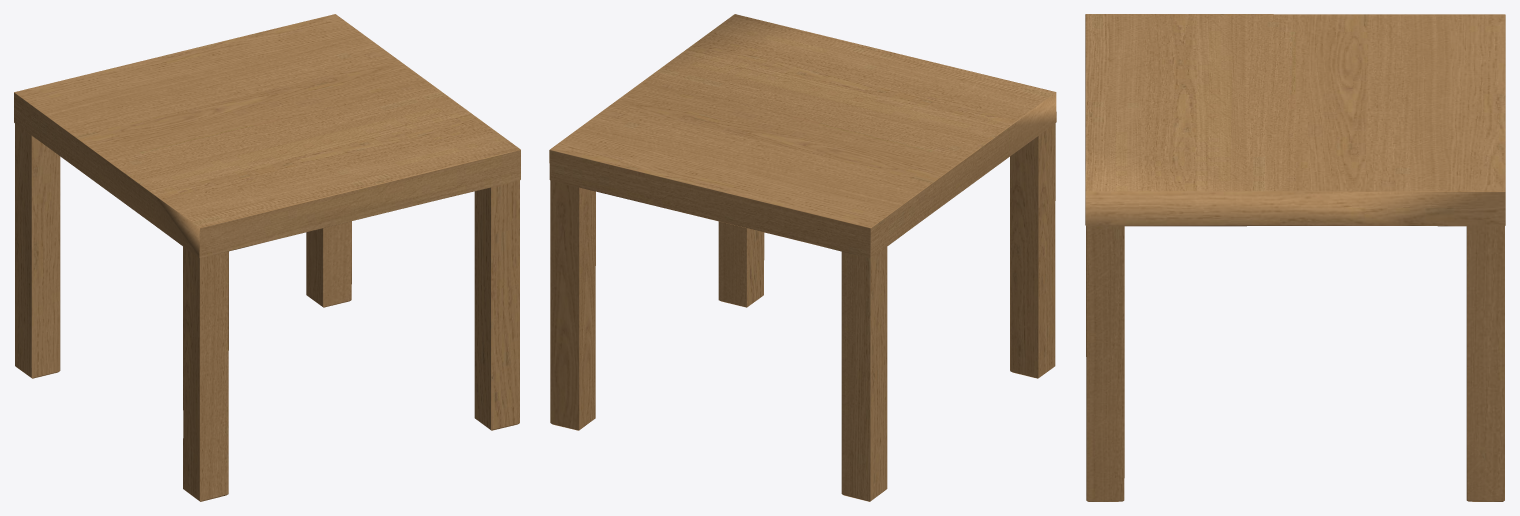
File: sidetable-LACK side table - oak effect (60111340).glb
3 renders of one model, left to right at view 1: azimuth 30°, elevation 25°; view 2: azimuth 150°, elevation 25°; view 3: azimuth 270°, elevation 25°, orthographic. The views are drawn at different scales.
Parts seen in each view (by area): view 1: ProcessedMeshNode; view 2: ProcessedMeshNode; view 3: ProcessedMeshNode.
Part boxes in pixels (x1,y1,x2,y2): ProcessedMeshNode: (14, 14, 520, 501); ProcessedMeshNode: (549, 14, 1056, 501); ProcessedMeshNode: (1085, 14, 1505, 501).
Size of the model in its own units: 0.5503 by 0.4503 by 0.5503.
1 material, 1 textured.
